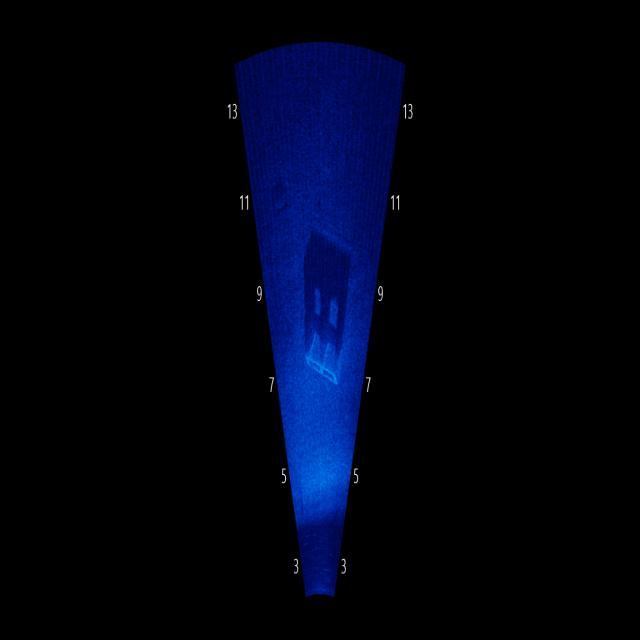square: (306, 325, 350, 390)
